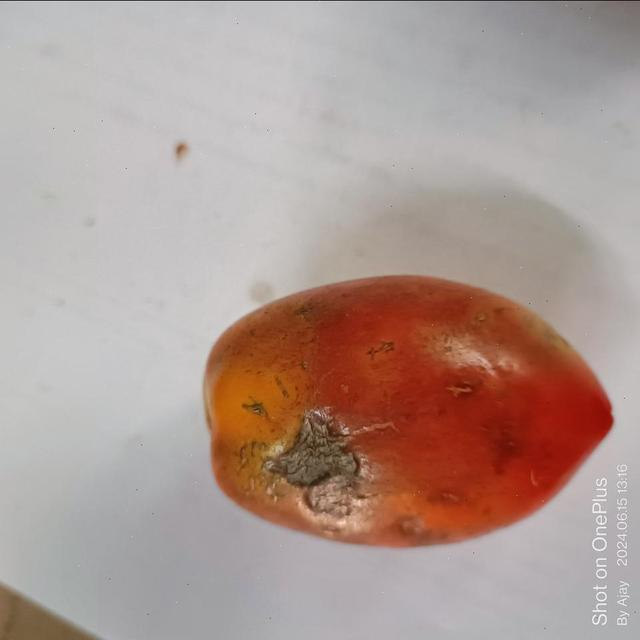Bacterial Spot Fruit: (175, 270, 242, 349)
